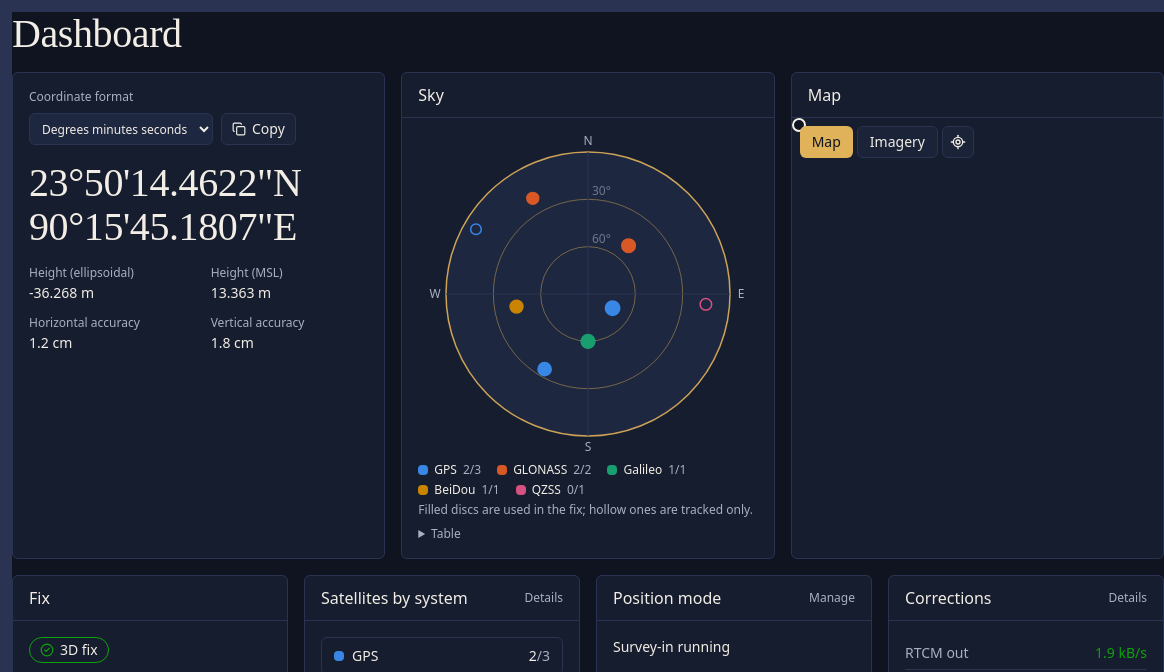
Test case: Dashboard › copies the two coordinate lines joined by a newline and says so briefly
Click the button "Copy" at coordinates (258, 129), box 221,113 -> 296,145
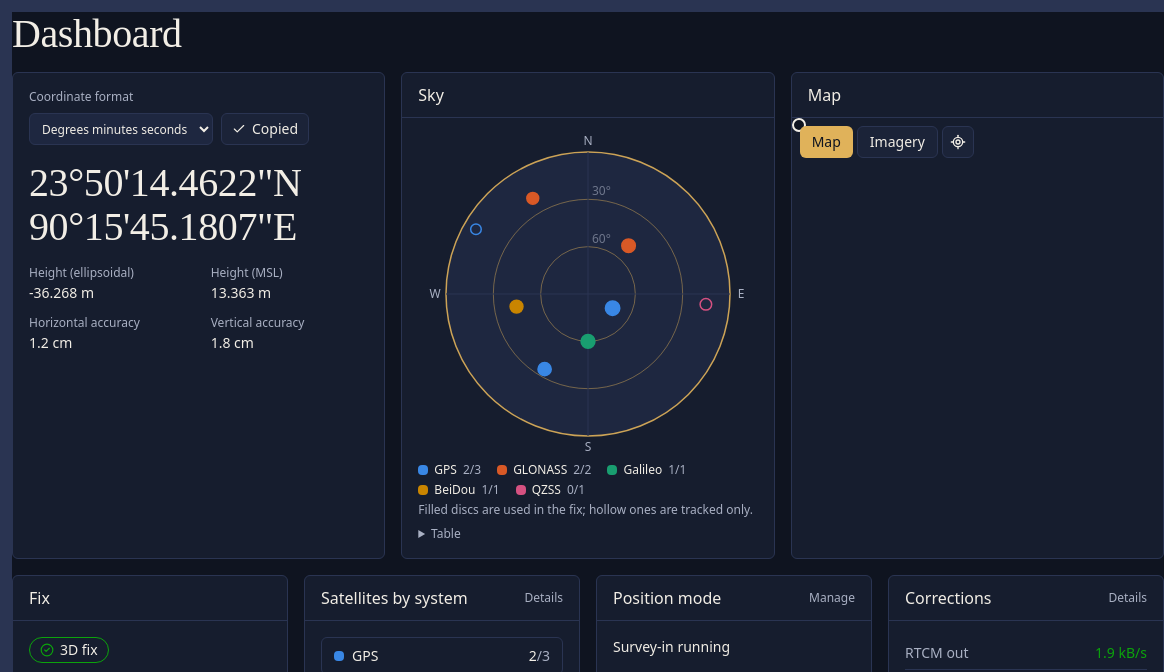
Result: the text "Copied" is shown at 252,119 -> 298,139
